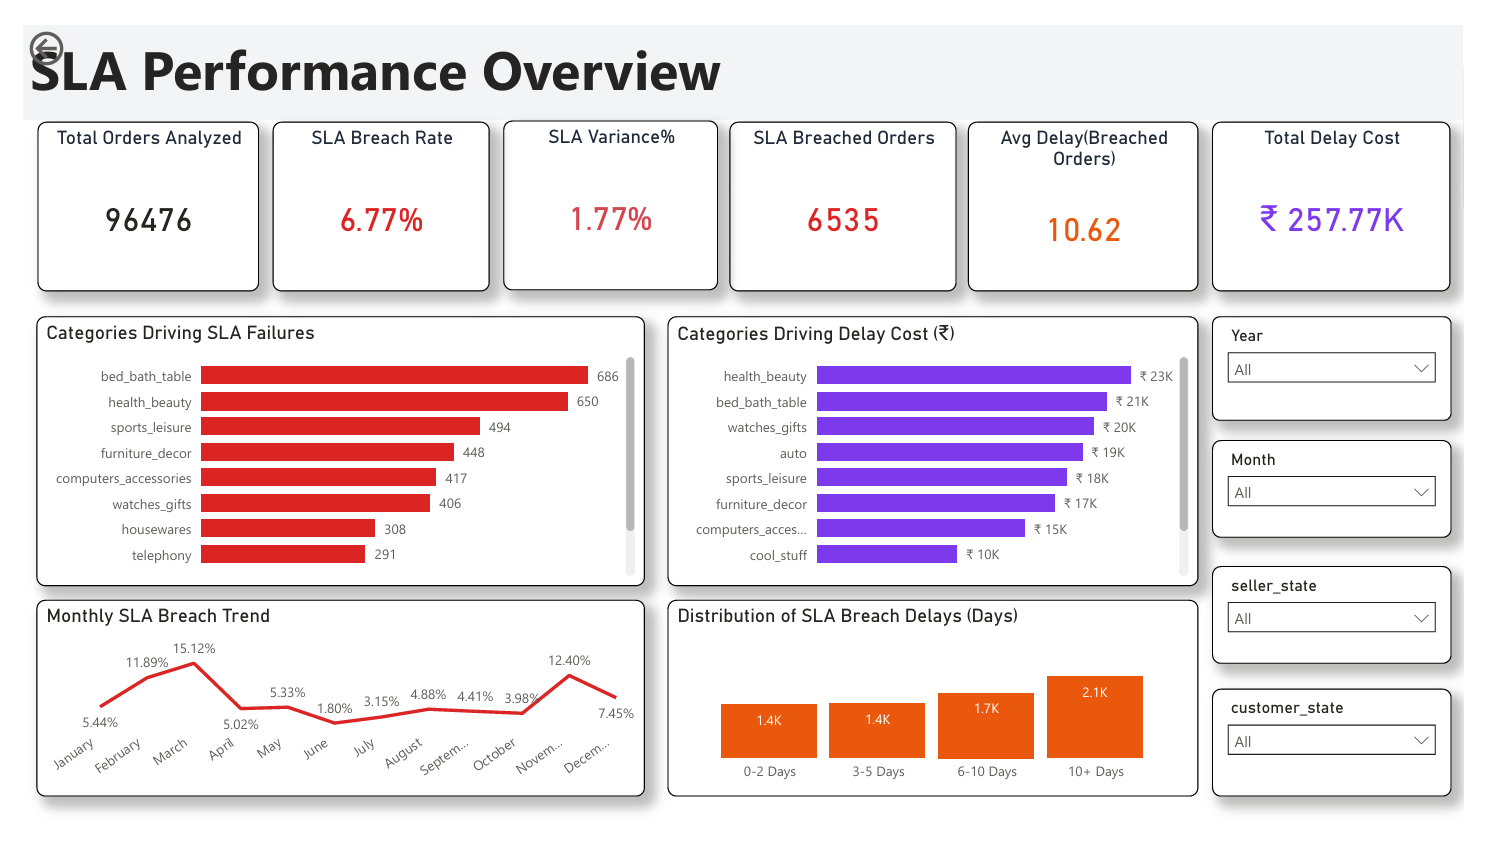

The dashboard page shown, as its layout file describes it:
{"tool":"powerbi","page":{"name":"SLA Performance Overview","canvas":[1280,720],"ordinal":0},"visuals":[{"type":"card","title":"Total Orders Analyzed","fields":{"Values":["public sla_final.Total Orders"]},"box":[12.1,84.8,196.9,151.5],"z":0},{"type":"card","title":"SLA Breached Orders","fields":{"Values":["public sla_final.SLA Breached Orders"]},"box":[627.1,84.8,201.5,151.5],"z":1000},{"type":"clusteredBarChart","title":"Categories Driving SLA Failures","fields":{"Category":["public sla_final.product_category_name_english"],"Y":["public sla_final.SLA Breached Orders"]},"box":[11.5,258,540.4,240.2],"z":2000},{"type":"clusteredBarChart","title":"Categories Driving Delay Cost (₹)","fields":{"Category":["public sla_final.product_category_name_english"],"Y":["public sla_final.Total Delay Cost"]},"box":[572.3,258,471.4,240.2],"z":3000},{"type":"card","title":"Avg Delay(Breached Orders)","fields":{"Values":["public sla_final.Avg Delay (Breached Orders)"]},"box":[839.2,84.8,204.5,151.5],"z":4000},{"type":"card","title":"Total Delay Cost","fields":{"Values":["public sla_final.Total Delay Cost"]},"box":[1055.8,84.8,212.1,151.5],"z":5000},{"type":"slicer","fields":{"Values":["public sla_final.order_purchase_timestamp.Variation.Date Hierarchy.Year"]},"box":[1056.4,258,212.1,93.3],"z":6000},{"type":"slicer","fields":{"Values":["public sla_final.order_purchase_timestamp.Variation.Date Hierarchy.Month"]},"box":[1056.4,367.9,212.1,86.9],"z":7000},{"type":"slicer","fields":{"Values":["public sla_final.seller_state"]},"box":[1056.4,480.3,212.1,86.9],"z":8000},{"type":"slicer","fields":{"Values":["public sla_final.customer_state"]},"box":[1056.4,588.9,212.1,95.8],"z":9000},{"type":"textbox","box":[0,0,1280.3,83.7],"z":10000},{"type":"card","title":" SLA Variance%","fields":{"Values":["public sla_final.SLA Variance %"]},"box":[425.6,83.7,191.9,151.2],"z":11000},{"type":"card","title":"SLA Breach Rate","fields":{"Values":["public sla_final.SLA Breach Rate"]},"box":[221.2,84.8,192.4,151.5],"z":12000},{"type":"lineChart","title":"Monthly SLA Breach Trend","fields":{"Y":["public sla_final.SLA Breach Rate"],"Category":["public sla_final.order_purchase_timestamp.Variation.Date Hierarchy.Month"]},"box":[11.5,509.7,540.4,175],"z":13000},{"type":"clusteredColumnChart","title":"Distribution of SLA Breach Delays (Days)","fields":{"Y":["CountNonNull(public sla_final.order_id)"],"Category":["public sla_final.Delay Bucket"]},"box":[572.3,509.7,471.4,175],"z":14000},{"type":"actionButton","box":[0,0,100,40],"z":15000}]}

Visuals, with their boxes in screenshot pixels (x1, y1, x2, y2), scaled from the page's 1280x720 canvas onto the 1487x851 screenshot:
"Total Orders Analyzed" card: select_region(14, 100, 243, 279)
"SLA Breached Orders" card: select_region(729, 100, 963, 279)
"Categories Driving SLA Failures" clusteredBarChart: select_region(13, 305, 641, 589)
"Categories Driving Delay Cost (₹)" clusteredBarChart: select_region(665, 305, 1212, 589)
"Avg Delay(Breached Orders)" card: select_region(975, 100, 1212, 279)
"Total Delay Cost" card: select_region(1227, 100, 1473, 279)
slicer - public sla_final.order_purchase_timestamp.Variation.Date Hierarchy.Year: select_region(1227, 305, 1474, 415)
slicer - public sla_final.order_purchase_timestamp.Variation.Date Hierarchy.Month: select_region(1227, 435, 1474, 538)
slicer - public sla_final.seller_state: select_region(1227, 568, 1474, 670)
slicer - public sla_final.customer_state: select_region(1227, 696, 1474, 809)
textbox: select_region(0, 0, 1486, 99)
" SLA Variance%" card: select_region(494, 99, 717, 278)
"SLA Breach Rate" card: select_region(257, 100, 480, 279)
"Monthly SLA Breach Trend" lineChart: select_region(13, 602, 641, 809)
"Distribution of SLA Breach Delays (Days)" clusteredColumnChart: select_region(665, 602, 1212, 809)
actionButton: select_region(0, 0, 116, 47)
